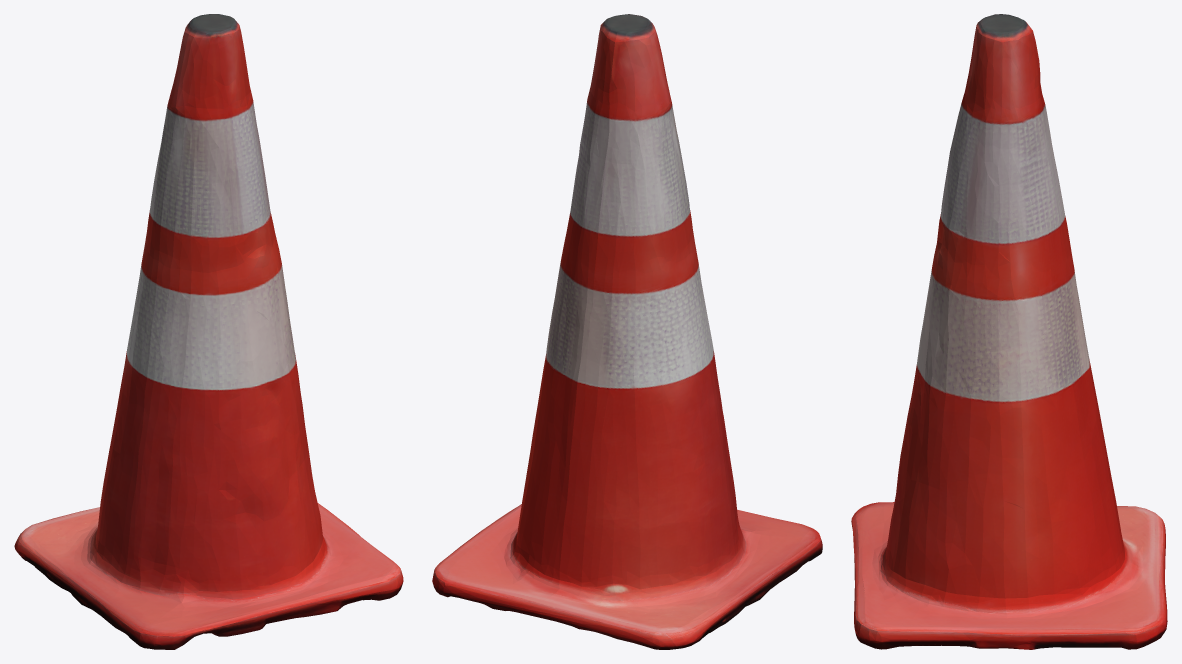
File: source.glb
3 views of the same model, side by side, from view 1: azimuth 30°, elevation 25°; view 2: azimuth 150°, elevation 25°; view 3: azimuth 270°, elevation 25° (orthographic). The views are drawn at different scales.
Parts seen in each view (by area): view 1: world; view 2: world; view 3: world.
Part boxes in pixels (x1,y1,x2,y2): world: (14, 14, 403, 649); world: (432, 14, 822, 649); world: (851, 14, 1167, 649).
Bounding box in the file's own units: 0.5087 × 0.9954 × 0.5065.
Materials: 1 (1 with a texture image).
